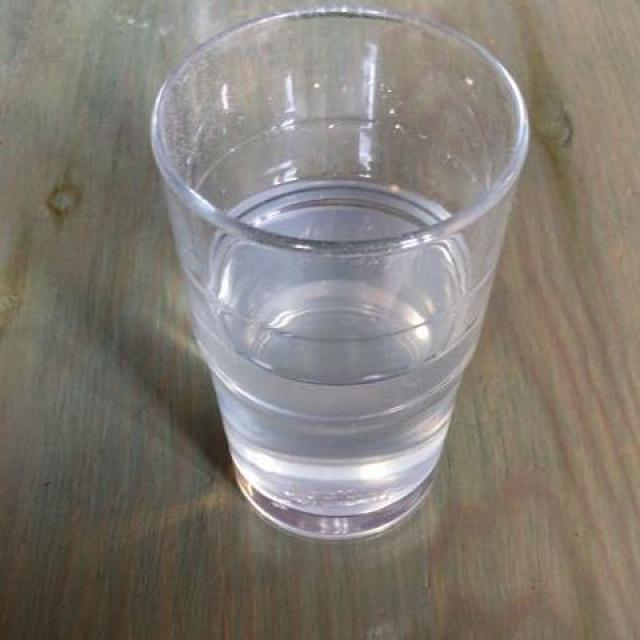drink: (203, 165, 481, 504)
